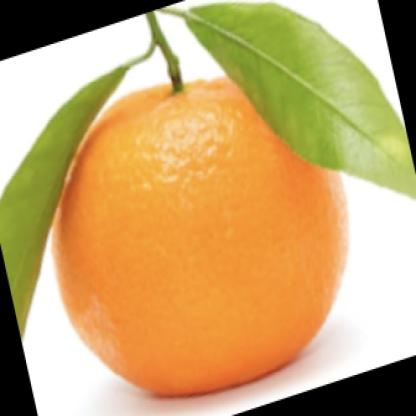fresh: (55, 73, 350, 392)
